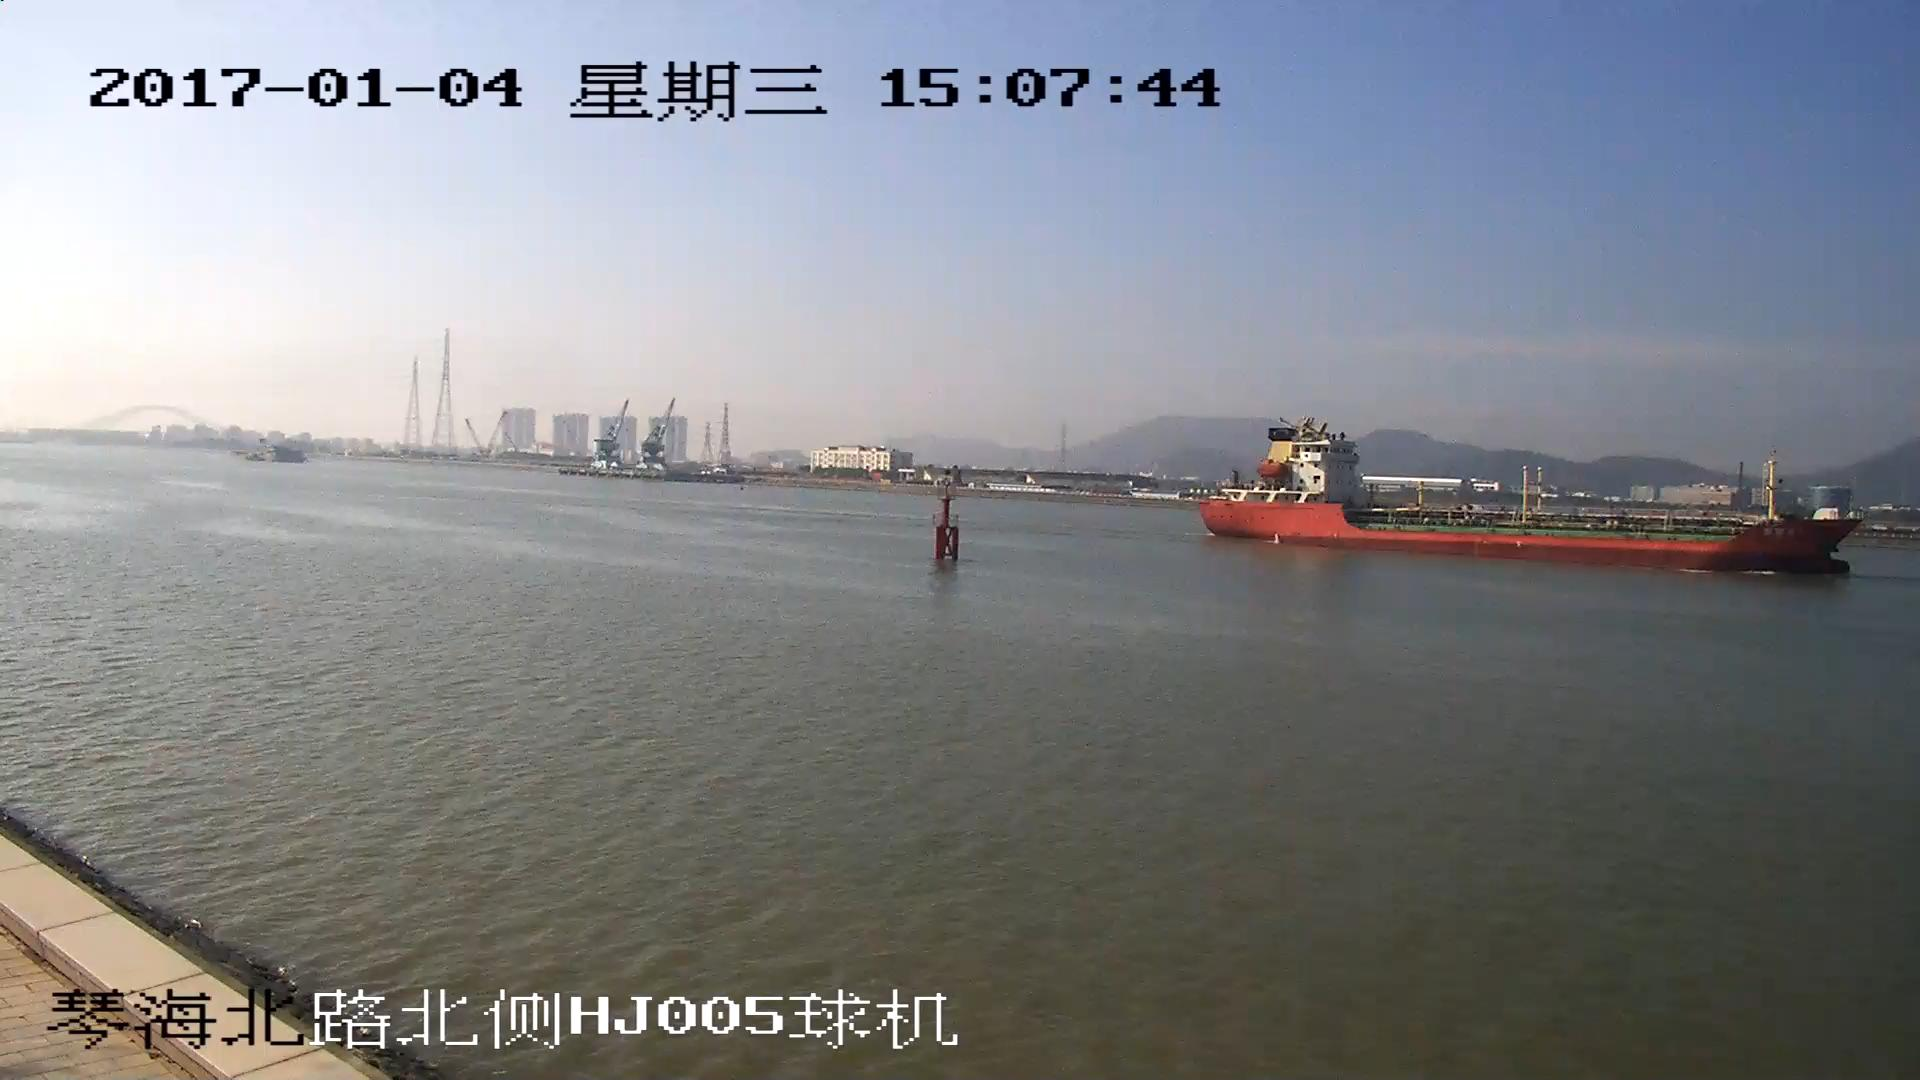general cargo ship: (1203, 428, 1858, 570)
